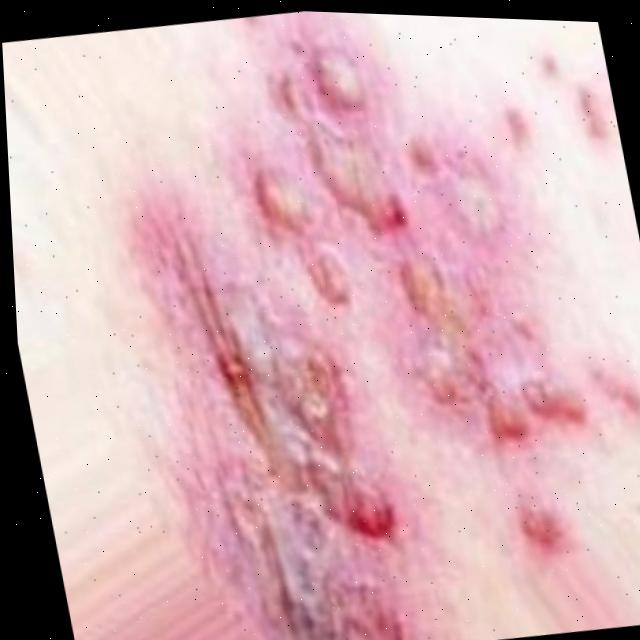Shingles: (100, 4, 635, 640)
